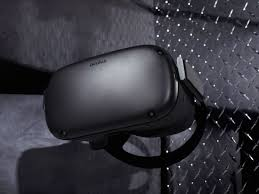oculus: (42, 46, 202, 144)
